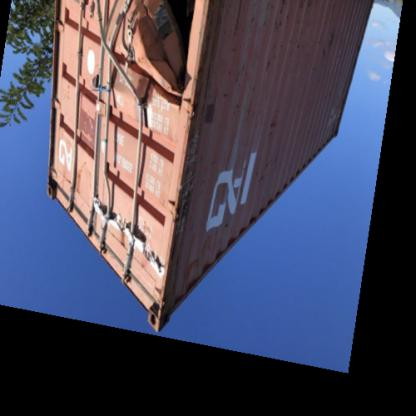Damage: (84, 1, 198, 253)
